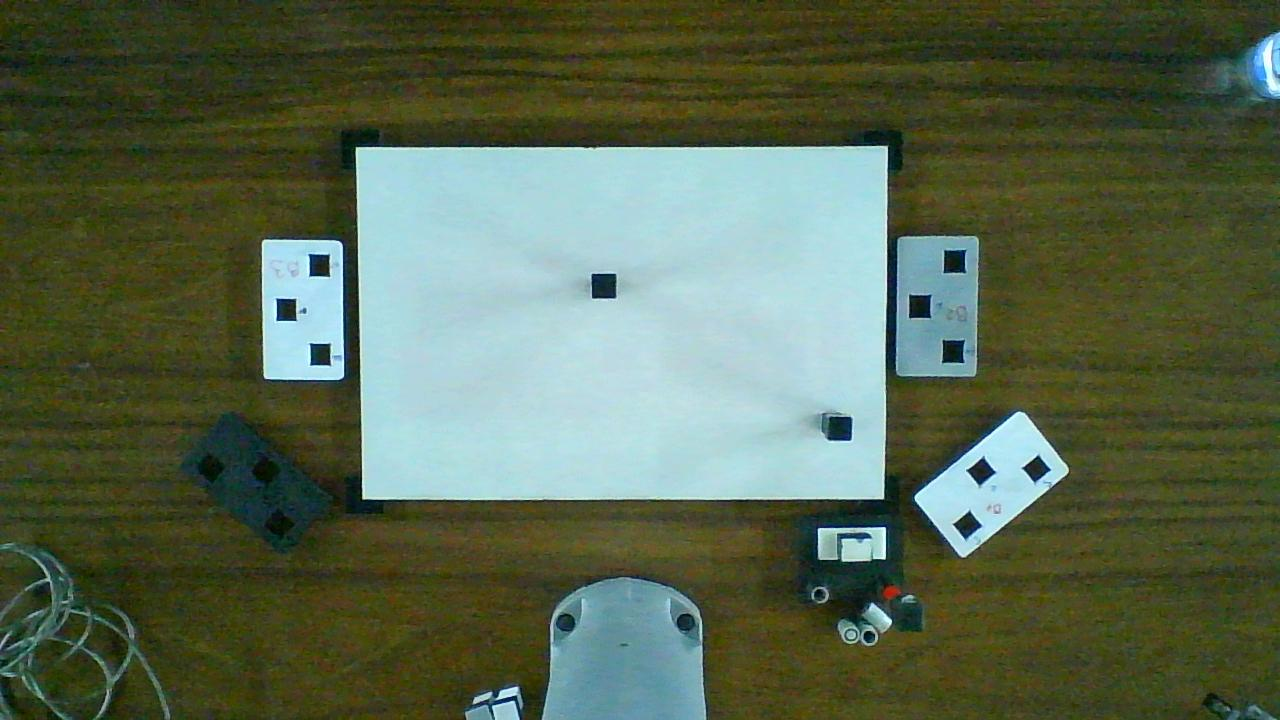peca_preta: (592, 274, 615, 297), (829, 417, 851, 440)
